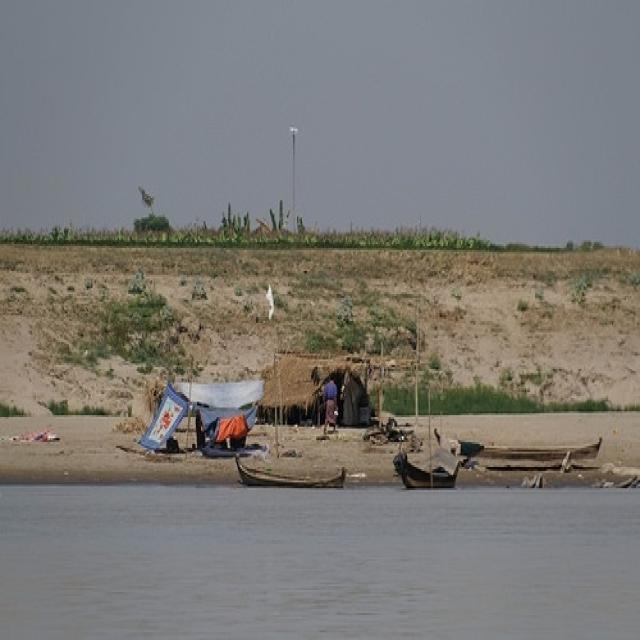boat: (236, 452, 346, 494), (389, 448, 466, 489)
